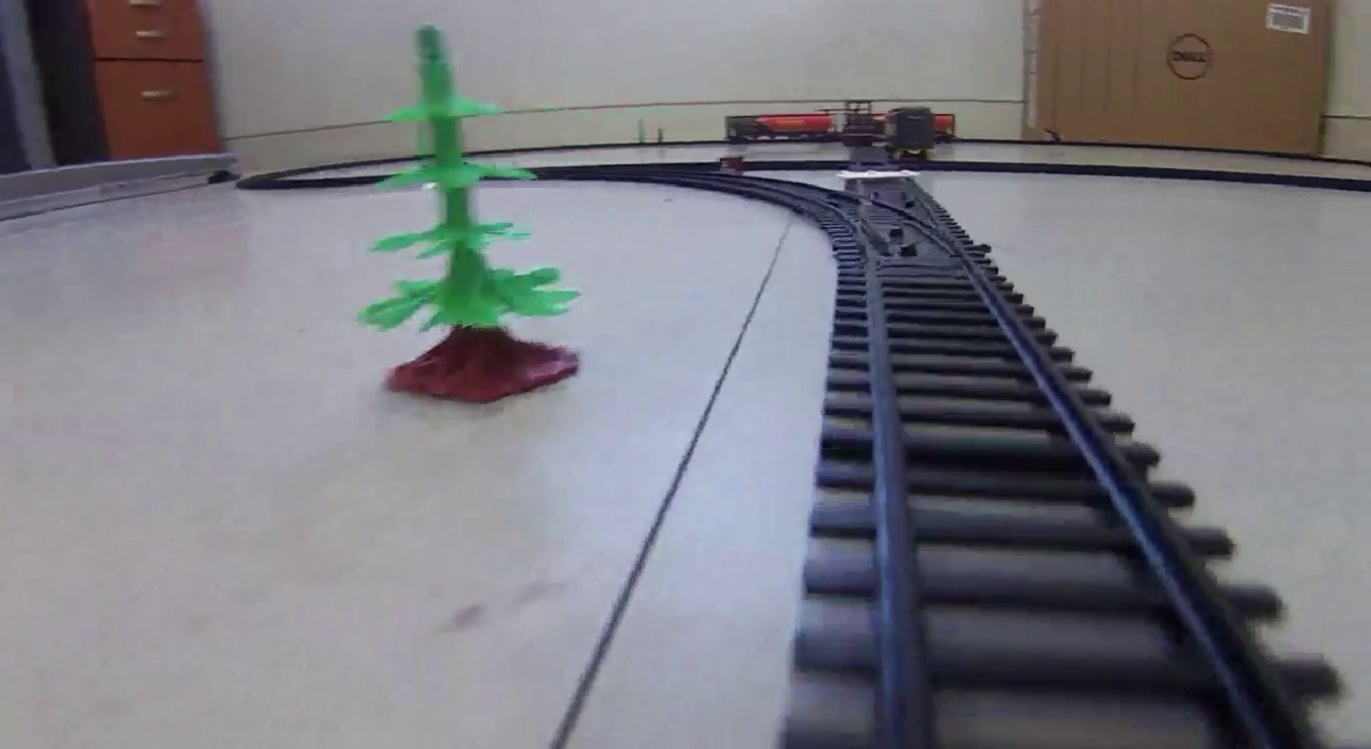tree: (352, 23, 581, 408)
